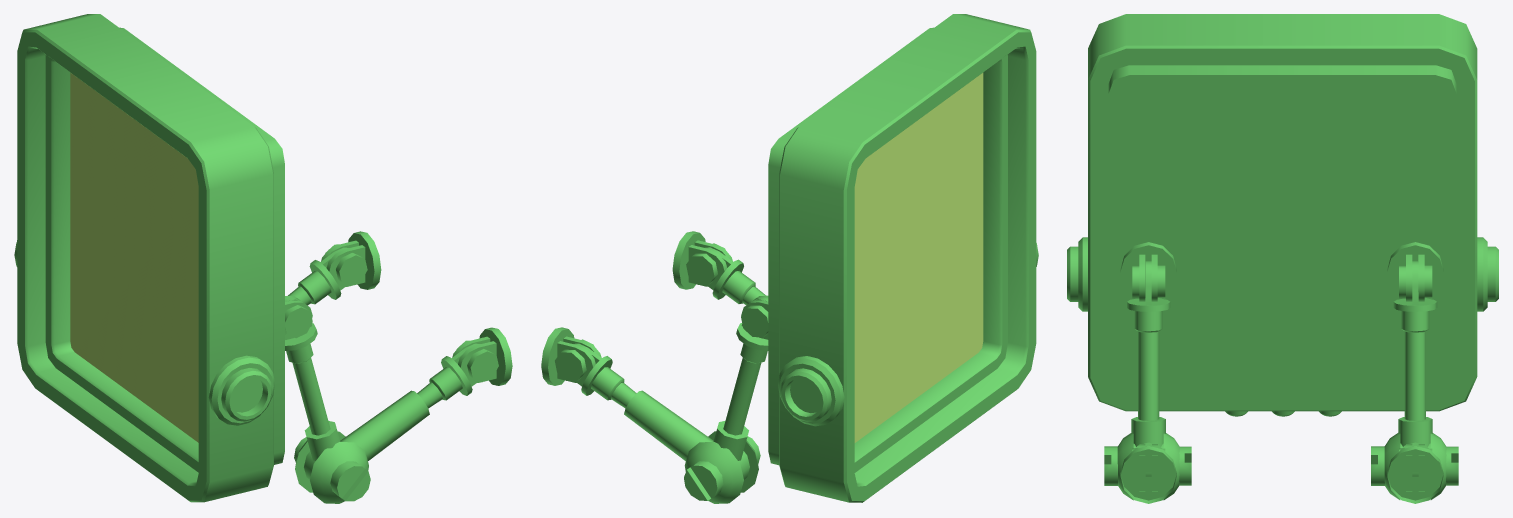
Rendered from Television_Metal_02.fbx.
3 renders of one model, left to right at view 1: azimuth 30°, elevation 25°; view 2: azimuth 150°, elevation 25°; view 3: azimuth 270°, elevation 25°, orthographic.
Visible parts, largest first — view 1: Television_Metal_02_LOD0; view 2: Television_Metal_02_LOD0; view 3: Television_Metal_02_LOD0.
Part boxes in pixels (box(x1,y1,x2,y2)): Television_Metal_02_LOD0: box(14, 14, 512, 503); Television_Metal_02_LOD0: box(541, 14, 1038, 503); Television_Metal_02_LOD0: box(1067, 14, 1498, 503).
Size of the model in its own units: 81.11 by 96.98 by 93.06.
